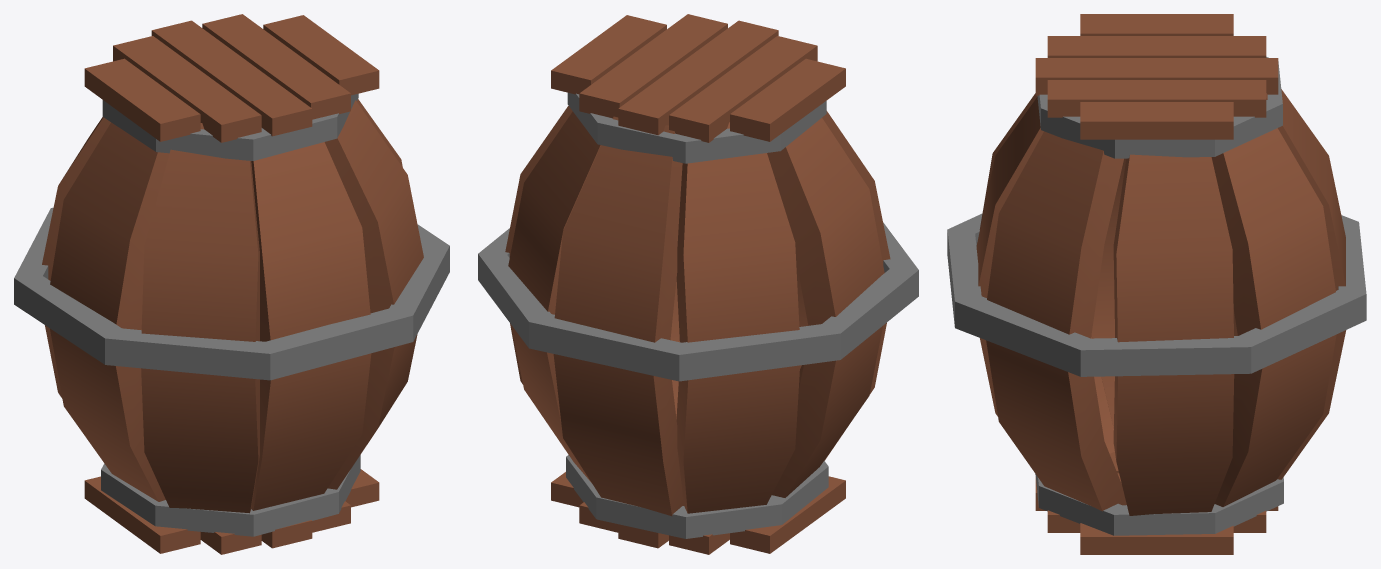
Rendered from Wooden Barrel.fbx.
3 views of the same model, side by side, from view 1: azimuth 30°, elevation 25°; view 2: azimuth 150°, elevation 25°; view 3: azimuth 270°, elevation 25° (orthographic).
Visible parts, largest first — view 1: Wooden_Barrel; view 2: Wooden_Barrel; view 3: Wooden_Barrel.
Boxes of the visible parts, left/top/right/bottom form: Wooden_Barrel: left=14, top=14, right=449, bottom=554; Wooden_Barrel: left=478, top=14, right=918, bottom=554; Wooden_Barrel: left=947, top=14, right=1366, bottom=554.
Bounding box in the file's own units: 0.2817 × 0.3214 × 0.2817.
